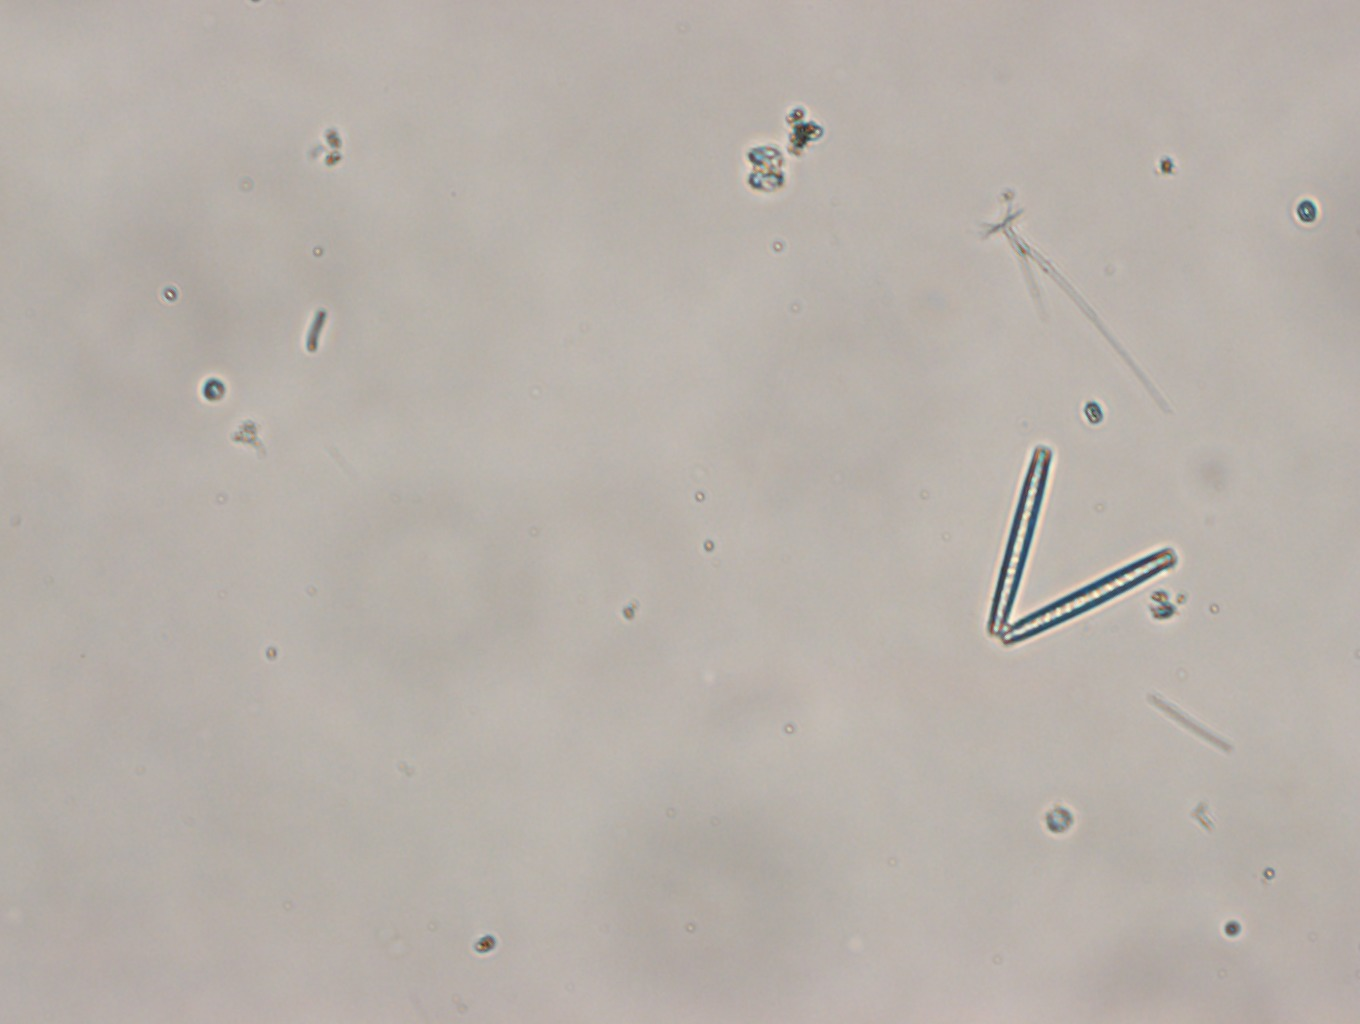thalassionema nitzschioides: (980, 433, 1184, 667)
